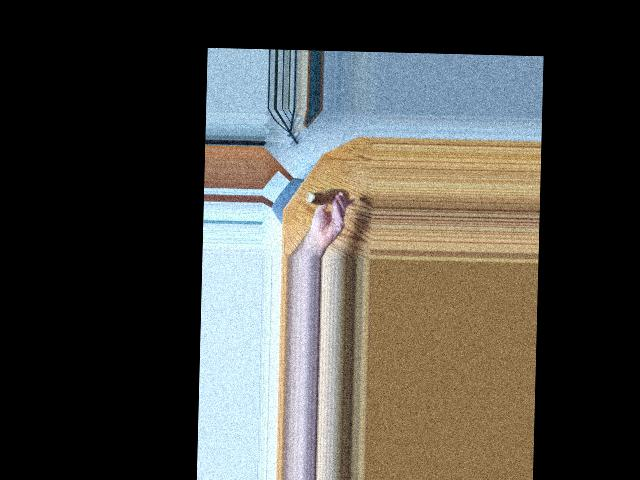sweet_potato: (307, 185, 344, 210)
